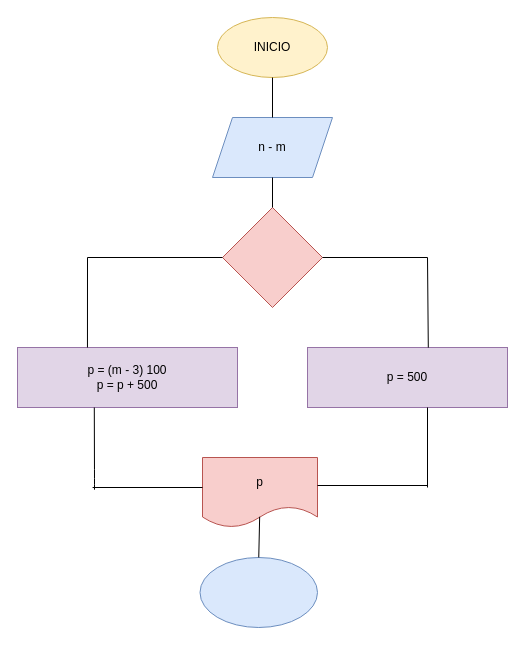
This 525x645 diagram has some shape labels left out. The shapes that lost their labels are listed below. From the top down, each one's centre as x and y in pixels, then its label:
At (x=272, y=257): "n -m < = 3".
At (x=258, y=592): "FIN".
